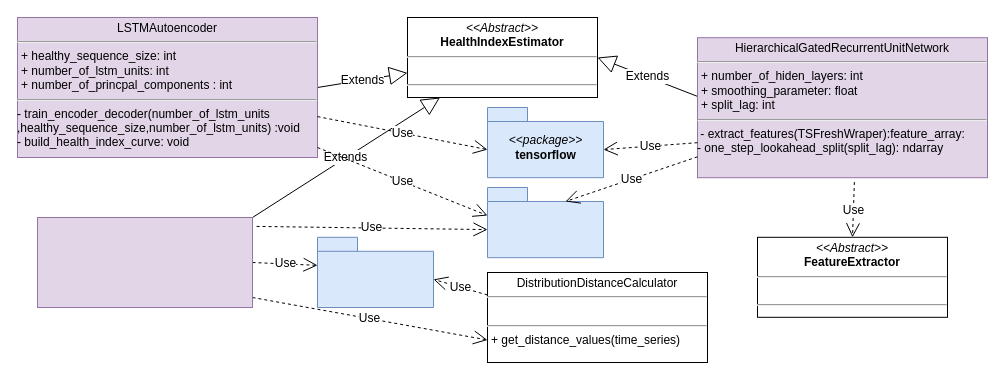
Some shapes in this 1005 by 380 pixel diagram are drawn without their labels. Here are the shapes that lost their labels. From the top down, the box of each, then its label:
(486, 186, 604, 258): <<package>> sklearn
(36, 216, 252, 308): KullbackLeibler + healthy_sequence_size: int - build_health_index(): void
(316, 236, 434, 308): <<package>> scipy
